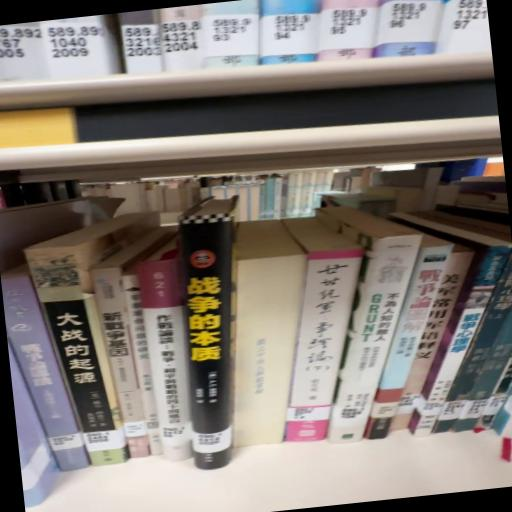backward: (234, 221, 308, 448)
book: (2, 266, 91, 478)
